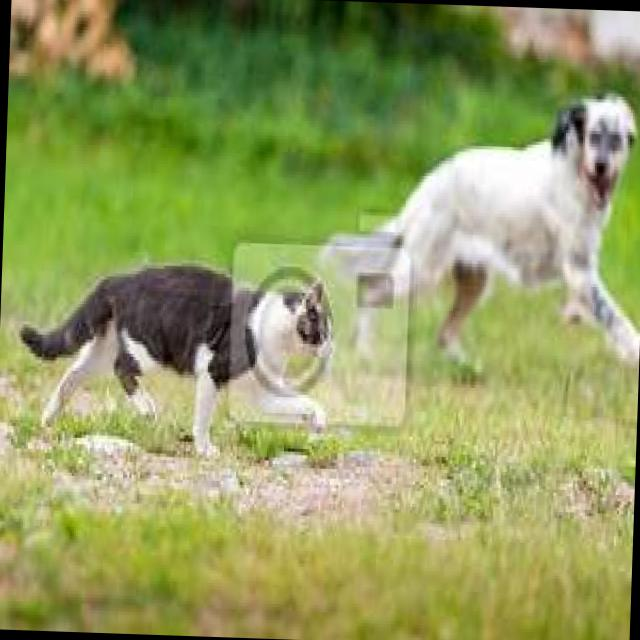animal: (314, 79, 640, 374), (16, 254, 336, 462)
